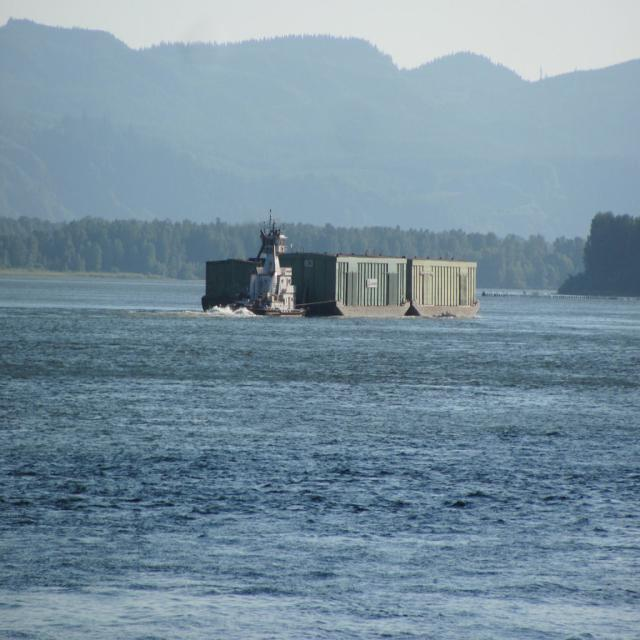Boat: (202, 204, 478, 315)
